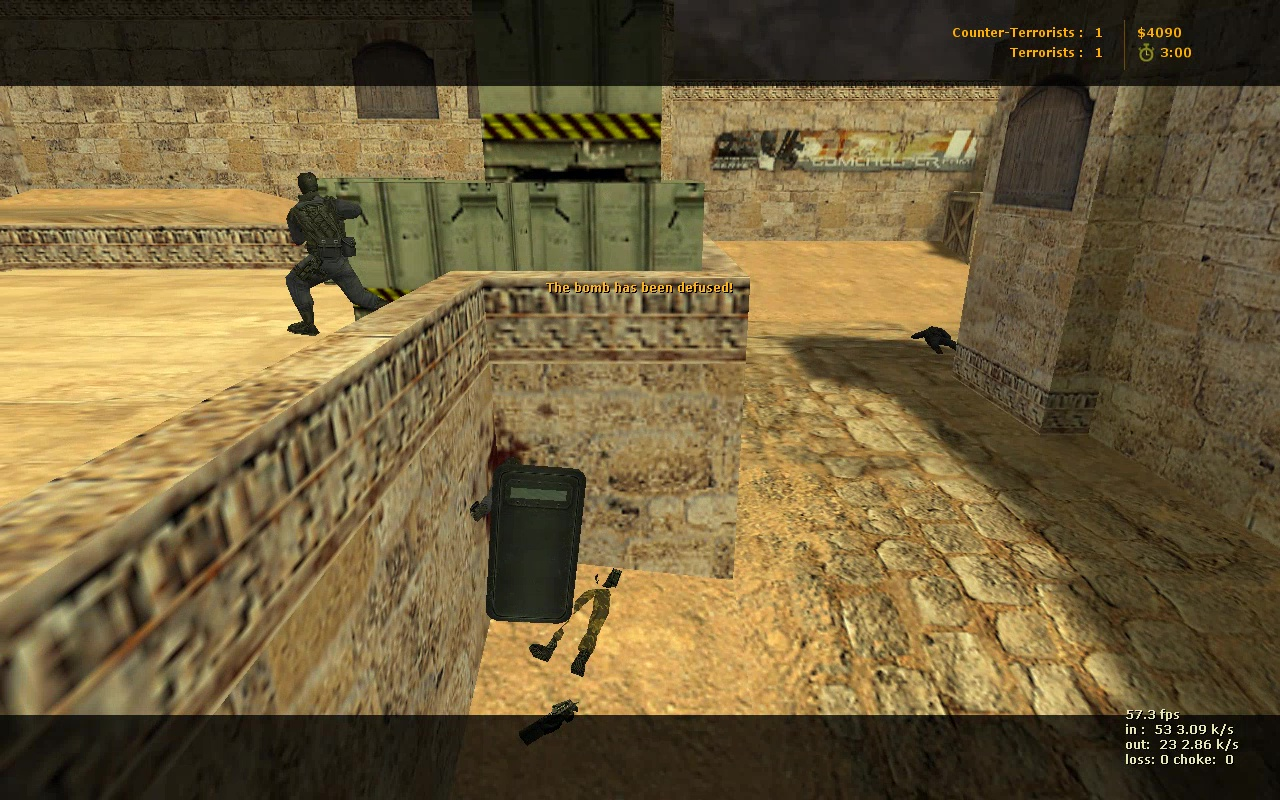ct: (472, 461, 587, 627), (283, 171, 387, 336)
dead: (911, 319, 962, 352)
